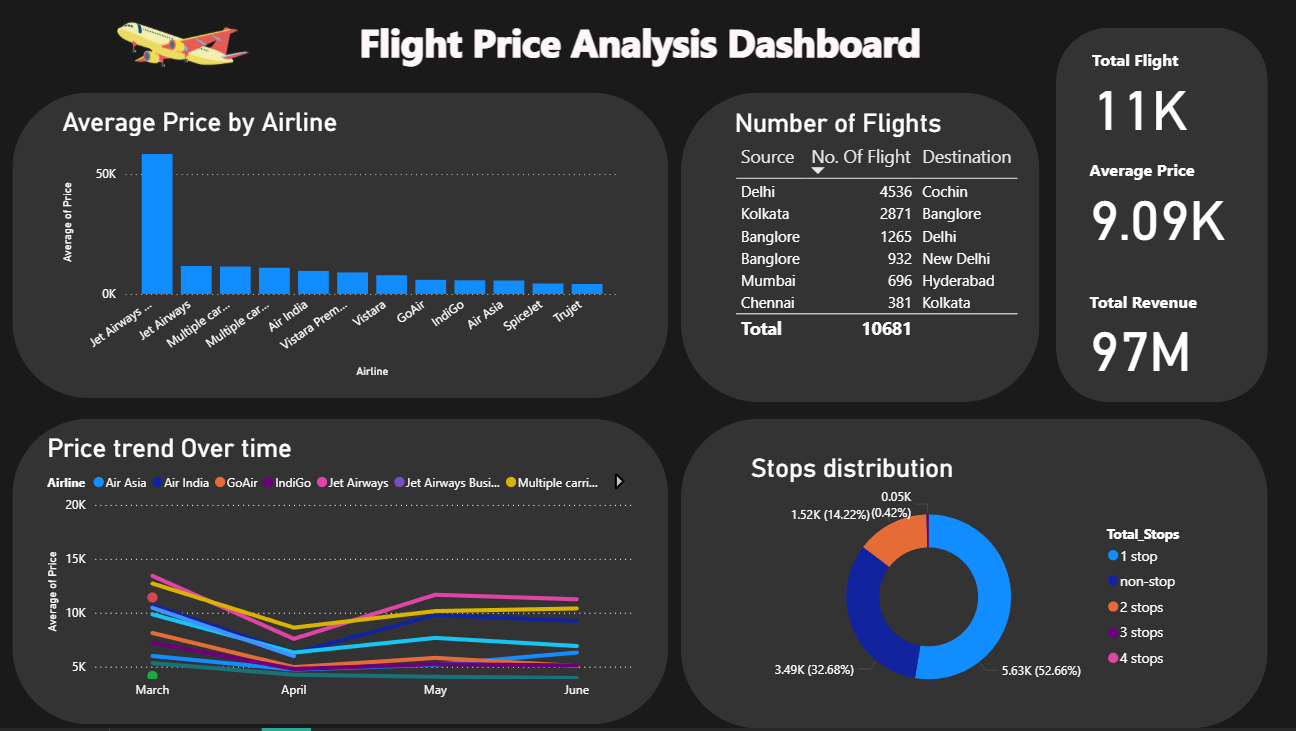

The dashboard page shown, as its layout file describes it:
{"tool":"powerbi","page":{"name":"Overview_Dashboard","canvas":[1280,720],"ordinal":0},"visuals":[{"type":"image","box":[112,16,144,64],"z":0},{"type":"shape","box":[1040.5,16,208,368],"z":0,"group":"g4"},{"type":"shape","box":[16,83.2,644.1,300],"z":0,"group":"g1"},{"type":"shape","box":[672.4,403.5,576,304],"z":0,"group":"g3"},{"type":"shape","box":[16,403.7,644.1,300],"z":0,"group":"g2"},{"type":"shape","box":[672.4,79.8,352.1,304.3],"z":1000},{"type":"clusteredColumnChart","title":"Average Price by Airline","fields":{"Category":["flightprice flight.Airline"],"Y":["Avg(flightprice flight.Price)"]},"box":[59.9,98.2,556.2,270],"z":1000,"group":"g1"},{"type":"lineChart","title":"Price trend Over time","fields":{"Y":["Avg(flightprice flight.Price)"],"Series":["flightprice flight.Airline"],"Category":["flightprice flight.Date.Variation.Date Hierarchy.Month"]},"box":[45.3,418.7,585.5,270],"z":1000,"group":"g2"},{"type":"donutChart","title":"Stops distribution","fields":{"Y":["CountNonNull(flightprice flight.Total_Stops)"],"Category":["flightprice flight.Total_Stops"]},"box":[736.4,437.3,448,253.3],"z":1000,"group":"g3"},{"type":"textbox","box":[704,416,384,272],"z":2000},{"type":"group","id":"g1","title":"Group 1","box":[16,83.2,656,304],"z":3000},{"type":"cardVisual","fields":{"Data":["flightprice flight.Total Flight"]},"box":[1058.8,19.5,170,112],"z":4000,"group":"g4"},{"type":"tableEx","title":"Number of Flights","fields":{"Values":["flightprice flight.Source","CountNonNull(flightprice flight.Price)","flightprice flight.Destination"]},"box":[720,112,288,240],"z":4000},{"type":"group","id":"g2","title":"Group 2","box":[16,403.7,640.5,304.3],"z":5000},{"type":"group","id":"g3","title":"Group 5","box":[672.4,403.5,576,304],"z":6000},{"type":"textbox","box":[256,16,752,64],"z":7000},{"type":"cardVisual","fields":{"Data":["flightprice flight.Total Revenue"]},"box":[1056.5,256,176,112],"z":7000,"group":"g4"},{"type":"group","id":"g4","title":"Group 3","box":[1040.5,16,208.6,368.1],"z":8000},{"type":"cardVisual","fields":{"Data":["flightprice flight.Average Price"]},"box":[1056.5,128,176,112],"z":9000,"group":"g4"}]}

Visuals, with their boxes in screenshot pixels (x1, y1, x2, y2), scaled from the page's 1280x720 canvas onto the 1296x731 screenshot:
image: bbox(113, 16, 259, 81)
shape: bbox(1054, 16, 1264, 390)
shape: bbox(16, 84, 668, 389)
shape: bbox(681, 410, 1264, 718)
shape: bbox(16, 410, 668, 714)
shape: bbox(681, 81, 1037, 390)
"Average Price by Airline" clusteredColumnChart: bbox(61, 100, 624, 374)
"Price trend Over time" lineChart: bbox(46, 425, 639, 699)
"Stops distribution" donutChart: bbox(746, 444, 1199, 701)
textbox: bbox(713, 422, 1102, 699)
"Group 1" group: bbox(16, 84, 680, 393)
cardVisual - flightprice flight.Total Flight: bbox(1072, 20, 1244, 134)
"Number of Flights" tableEx: bbox(729, 114, 1021, 357)
"Group 2" group: bbox(16, 410, 665, 719)
"Group 5" group: bbox(681, 410, 1264, 718)
textbox: bbox(259, 16, 1021, 81)
cardVisual - flightprice flight.Total Revenue: bbox(1070, 260, 1248, 374)
"Group 3" group: bbox(1054, 16, 1265, 390)
cardVisual - flightprice flight.Average Price: bbox(1070, 130, 1248, 244)
